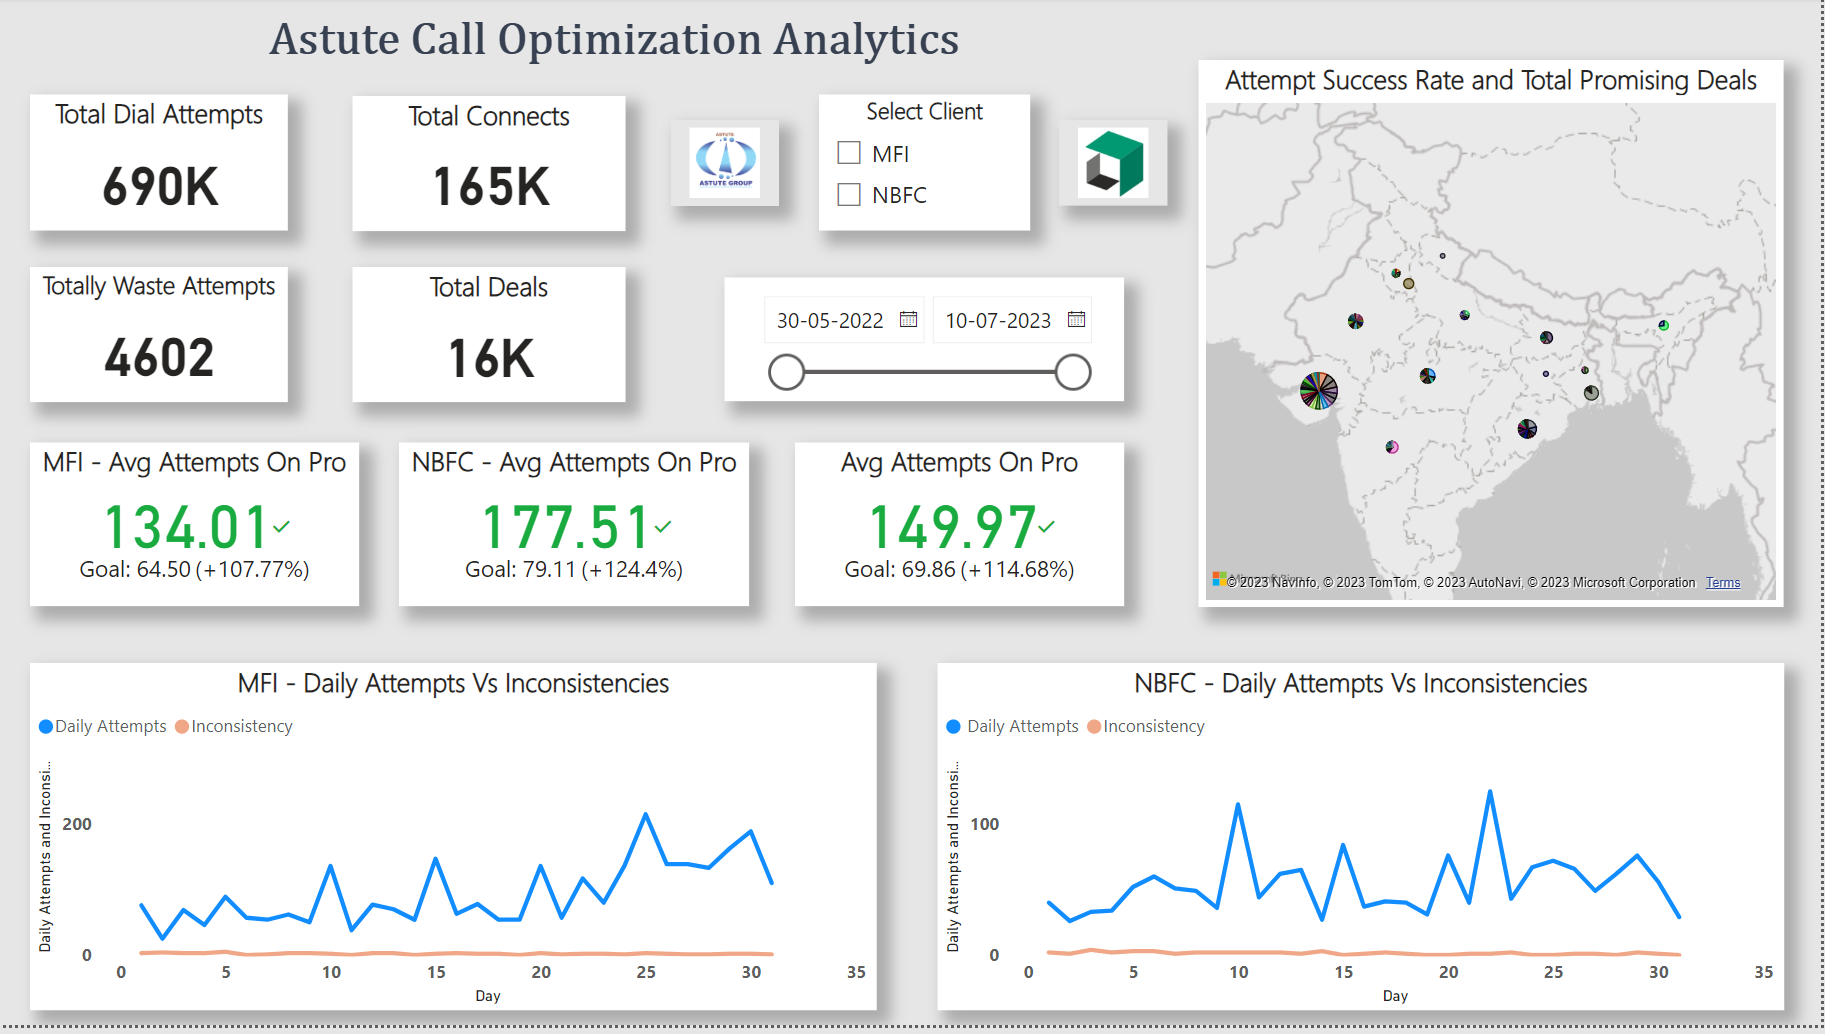

What the dashboard file says about the page in this screenshot:
{"tool":"powerbi","page":{"name":"Page 1","canvas":[1280,720],"ordinal":0},"visuals":[{"type":"card","title":"Totally Waste Attempts","fields":{"Values":["CountNonNull(Effort.Waste Attempts)"]},"box":[25.5,188.8,180.7,95],"z":0},{"type":"card","title":"Total Dial Attempts","fields":{"Values":["Sum(Effort.Total Dialling Attempts)"]},"box":[25.2,68.3,180.8,95.6],"z":1000},{"type":"card","title":"Total Connects","fields":{"Values":["Sum(Effort.Total Connect)"]},"box":[251.2,69.4,191.3,94.6],"z":2000},{"type":"lineChart","title":"MFI  - Daily Attempts Vs Inconsistencies","fields":{"Category":["MFI.Date Column.Variation.Date Hierarchy.Year","MFI.Date Column.Variation.Date Hierarchy.Quarter","MFI.Date Column.Variation.Date Hierarchy.Month","MFI.Date Column.Variation.Date Hierarchy.Day"],"Y":["CountNonNull(MFI.Daily Attempts)","Sum(MFI.Inconsistency)"]},"box":[25.6,466.7,593.3,243.3],"z":3000},{"type":"lineChart","title":"NBFC - Daily Attempts Vs Inconsistencies","fields":{"Category":["NBFC.Date Column.Variation.Date Hierarchy.Year","NBFC.Date Column.Variation.Date Hierarchy.Quarter","NBFC.Date Column.Variation.Date Hierarchy.Month","NBFC.Date Column.Variation.Date Hierarchy.Day"],"Y":["CountNonNull(NBFC.Daily Attempts)","Sum(NBFC.Inconsistency)"]},"box":[661.1,466.7,593.3,243.3],"z":4000},{"type":"map","title":"Attempt Success Rate and Total Promising  Deals","fields":{"Category":["Location & Product.State"],"Size":["Sum(Location & Product.Deal)"],"Series":["Location & Product.City"]},"box":[844.2,44,409.9,383.3],"z":5000},{"type":"card","title":"Total Deals","fields":{"Values":["Sum(Effort.Deal)"]},"box":[251.3,188.8,191.1,95],"z":6000},{"type":"slicer","title":"Select Client","fields":{"Values":["Effort.Client"]},"box":[578.1,68.3,148.2,95.6],"z":7000},{"type":"slicer","fields":{"Values":["Effort.Date Column"]},"box":[511.8,196.9,280.2,86.9],"z":8000},{"type":"image","box":[474,86.2,75.7,59.9],"z":9000},{"type":"image","box":[746.3,86.2,75.7,59.9],"z":10000},{"type":"kpi","title":"MFI - Avg Attempts On Pro ","fields":{"TrendLine":["Promise.Client"],"Indicator":["Avg(Promise.Total Dialling Attempts)"],"Goal":["Avg(Promise.Average Attempts for Promising)"]},"box":[25.5,312.7,230.4,114.6],"z":11000},{"type":"kpi","title":"NBFC - Avg Attempts On Pro ","fields":{"TrendLine":["Promise.Client"],"Indicator":["Avg(Promise.Total Dialling Attempts)"],"Goal":["Avg(Promise.Average Attempts for Promising)"]},"box":[283.7,312.7,245.5,114.6],"z":12000},{"type":"kpi","title":"Avg Attempts On Pro","fields":{"Goal":["Avg(Promise.Average Attempts for Promising)"],"Indicator":["Avg(Promise.Total Dialling Attempts)"],"TrendLine":["Promise.Promising Loan"]},"box":[561.6,312.7,230.4,114.6],"z":13000},{"type":"textbox","box":[25.2,7.4,818.8,51.5],"z":14000}]}

Visuals, with their boxes in screenshot pixels (x1, y1, x2, y2), scaled from the page's 1280x720 canvas onto the 1825x1034 screenshot:
"Totally Waste Attempts" card: detection(36, 271, 294, 408)
"Total Dial Attempts" card: detection(36, 98, 294, 235)
"Total Connects" card: detection(358, 100, 631, 236)
"MFI  - Daily Attempts Vs Inconsistencies" lineChart: detection(36, 670, 882, 1020)
"NBFC - Daily Attempts Vs Inconsistencies" lineChart: detection(943, 670, 1789, 1020)
"Attempt Success Rate and Total Promising  Deals" map: detection(1204, 63, 1788, 614)
"Total Deals" card: detection(358, 271, 631, 408)
"Select Client" slicer: detection(824, 98, 1036, 235)
slicer - Effort.Date Column: detection(730, 283, 1129, 408)
image: detection(676, 124, 784, 210)
image: detection(1064, 124, 1172, 210)
"MFI - Avg Attempts On Pro " kpi: detection(36, 449, 365, 614)
"NBFC - Avg Attempts On Pro " kpi: detection(404, 449, 755, 614)
"Avg Attempts On Pro" kpi: detection(801, 449, 1129, 614)
textbox: detection(36, 11, 1203, 85)
